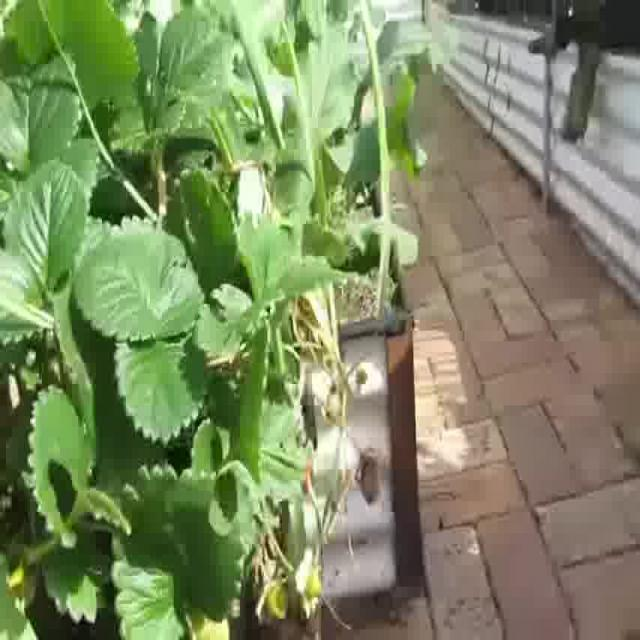Moho gris: (355, 443, 383, 517)
